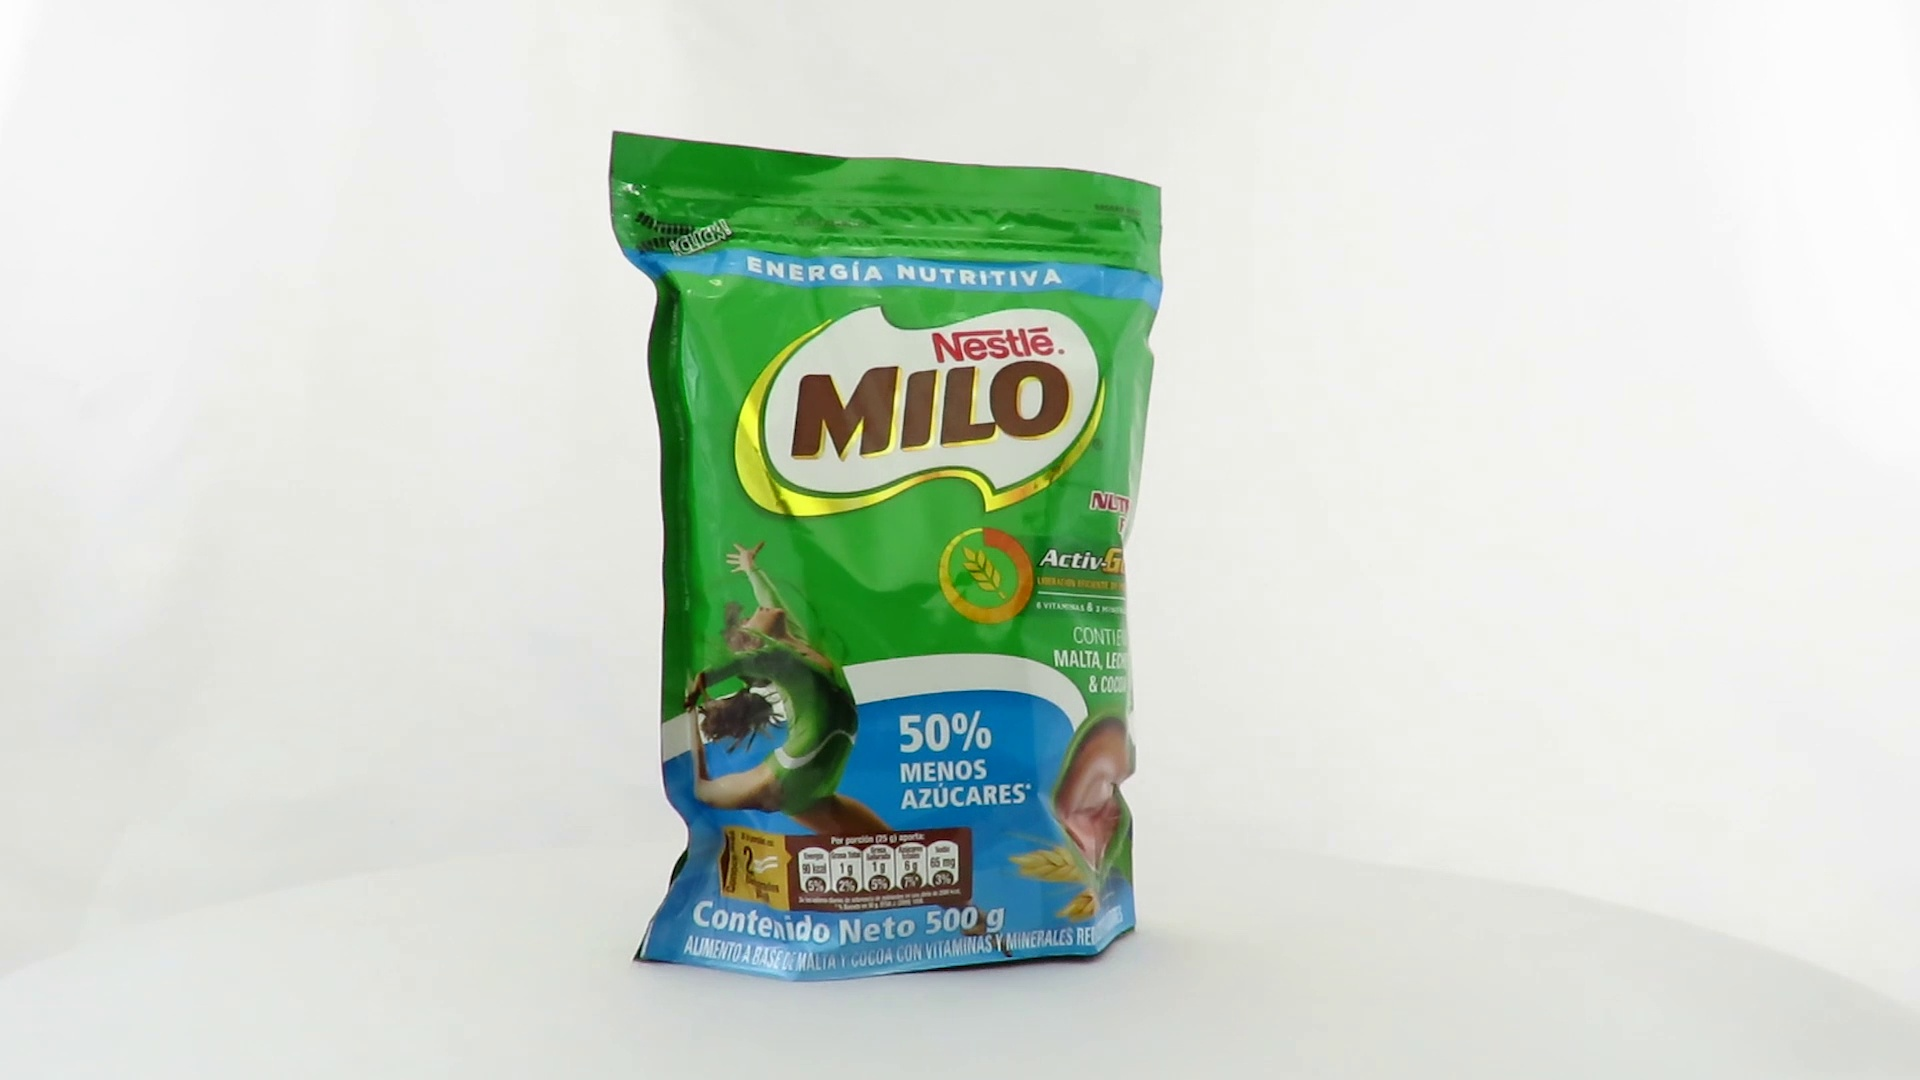COL0170205DYP50000: (603, 125, 1168, 989)
